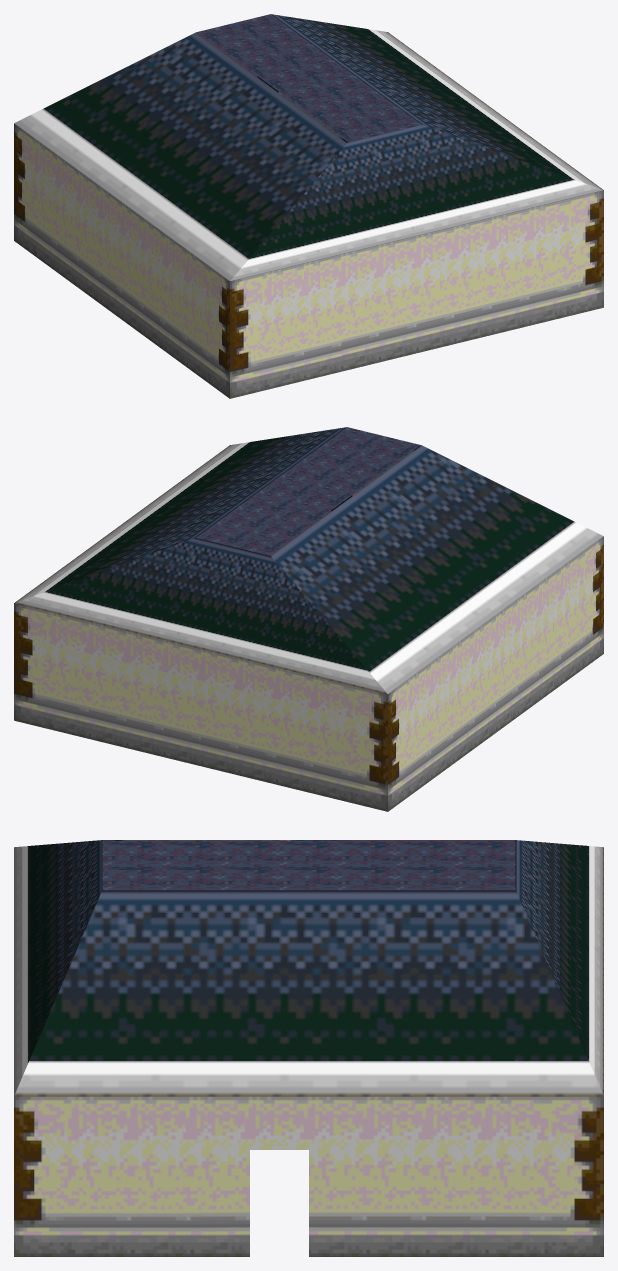
File: Brick_Room_10x10_single_door.fbx
The picture shows the model from 3 angles, top to bottom: view 1: azimuth 30°, elevation 25°; view 2: azimuth 150°, elevation 25°; view 3: azimuth 270°, elevation 25°; orthographic projection. The views are drawn at different scales.
Parts seen in each view (by area): view 1: Cube.002, Cube, Cube.001; view 2: Cube.002, Cube; view 3: Cube.002, Cube.
Part boxes in pixels (left/top/right/bottom): Cube.002: left=14, top=14, right=603, bottom=281; Cube: left=14, top=123, right=603, bottom=398; Cube.001: left=342, top=217, right=491, bottom=371; Cube.002: left=14, top=427, right=603, bottom=694; Cube: left=14, top=536, right=603, bottom=811; Cube.002: left=14, top=840, right=603, bottom=1096; Cube: left=14, top=1096, right=603, bottom=1256.
Bounding box in the file's own units: 1000 × 500 × 1000.
